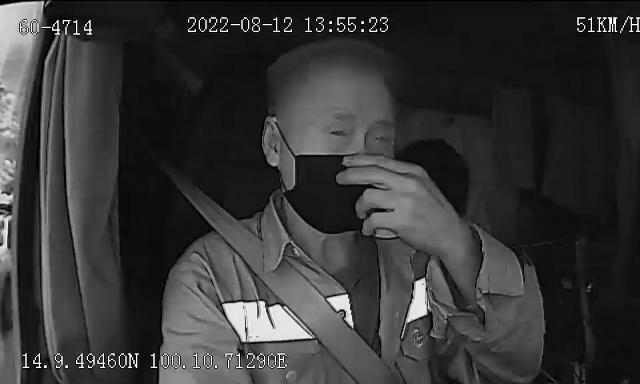Seatbelt: (172, 174, 400, 384)
